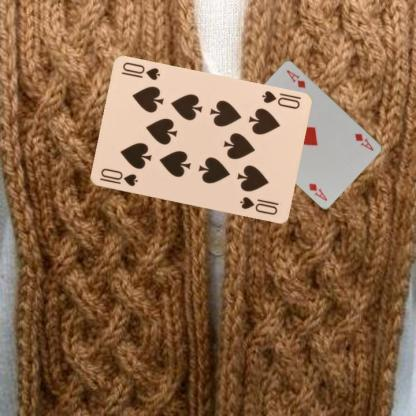10s: (96, 166, 140, 188), (259, 89, 301, 110)
Ad: (352, 130, 375, 152)
